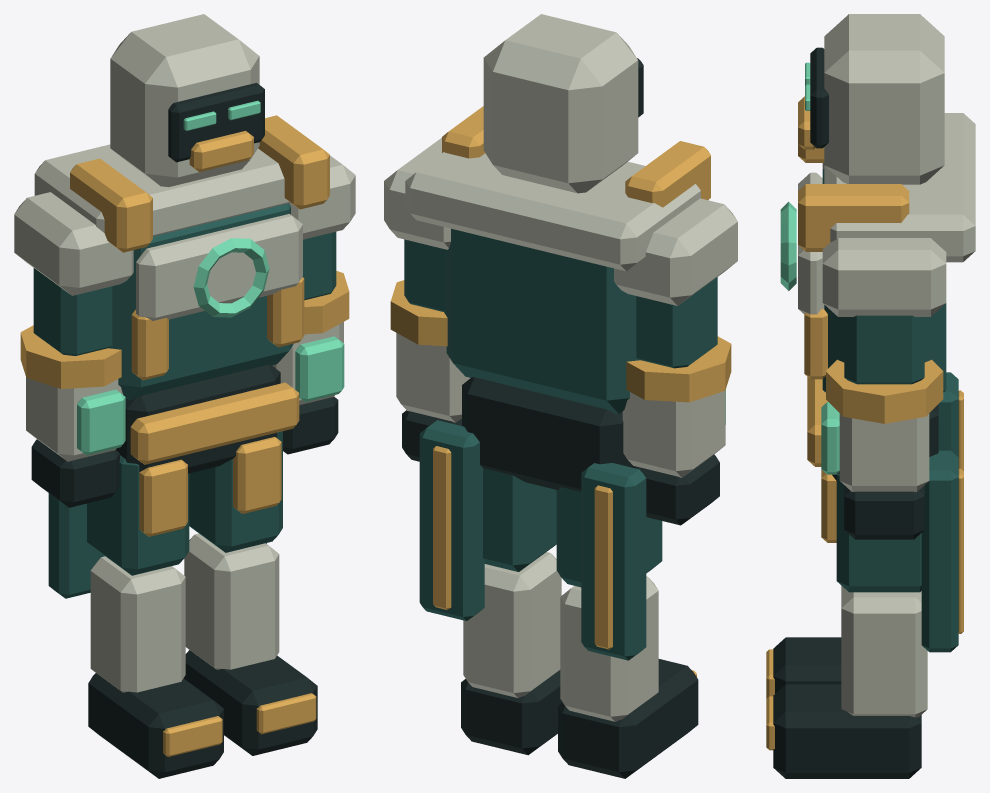
The model's file is rift-warden.glb.
3 renders of one model, left to right at view 1: azimuth 30°, elevation 25°; view 2: azimuth 150°, elevation 25°; view 3: azimuth 270°, elevation 25°, orthographic. The views are drawn at different scales.
Parts seen in each view (by area): view 1: chest, shin_l, head, shin_r, mantle, forearm_l, pelvis, upperarm_l, thigh_l, thigh_r, forearm_r, upperarm_r (+3 smaller); view 2: chest, mantle, head, shin_l, shin_r, forearm_l, upperarm_l, pelvis, coat_l, coat_r, forearm_r, thigh_r (+2 smaller); view 3: shin_r, head, forearm_r, upperarm_r, mantle, coat_r, thigh_r, chest, shin_l, pelvis, coat_l, sigil.
Part boxes in pixels (<box>): chest: <box>108,204,304,400</box>; shin_l: <box>88,556,223,778</box>; head: <box>110,14,264,187</box>; shin_r: <box>183,533,317,755</box>; mantle: <box>34,115,329,252</box>; forearm_l: <box>20,325,125,507</box>; pelvis: <box>116,364,299,473</box>; upperarm_l: <box>14,192,133,355</box>; thigh_l: <box>87,455,189,575</box>; thigh_r: <box>189,431,282,552</box>; forearm_r: <box>272,271,349,454</box>; upperarm_r: <box>289,155,355,300</box>; chest: <box>444,228,640,413</box>; mantle: <box>405,106,710,271</box>; head: <box>483,14,643,193</box>; shin_l: <box>558,576,698,778</box>; shin_r: <box>461,552,562,755</box>; forearm_l: <box>622,336,731,525</box>; upperarm_l: <box>614,198,737,368</box>; pelvis: <box>462,377,632,491</box>; coat_l: <box>581,463,646,660</box>; coat_r: <box>419,420,484,620</box>; forearm_r: <box>390,280,470,461</box>; thigh_r: <box>483,468,556,571</box>; shin_r: <box>766,586,927,778</box>; head: <box>798,14,944,184</box>; forearm_r: <box>821,359,943,539</box>; upperarm_r: <box>822,238,946,384</box>; mantle: <box>798,96,975,262</box>; coat_r: <box>921,450,963,652</box>; thigh_r: <box>821,469,921,592</box>; chest: <box>798,169,946,392</box>; shin_l: <box>766,637,841,698</box>; pelvis: <box>807,377,938,480</box>; coat_l: <box>938,372,963,470</box>; sigil: <box>780,201,796,290</box>.
Bounding box in the file's own units: 1.22 × 2.54 × 0.6775.
